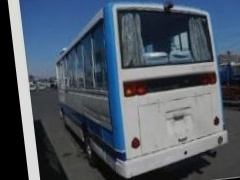bus: (46, 0, 234, 180)
